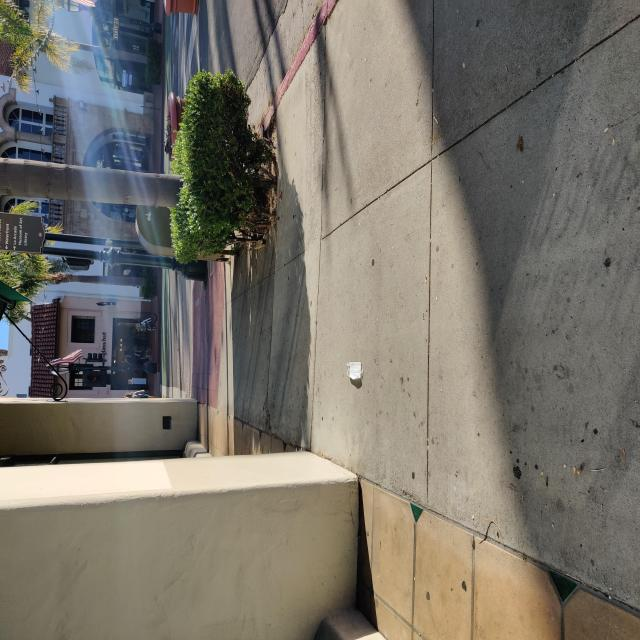litter: (346, 362, 364, 380)
